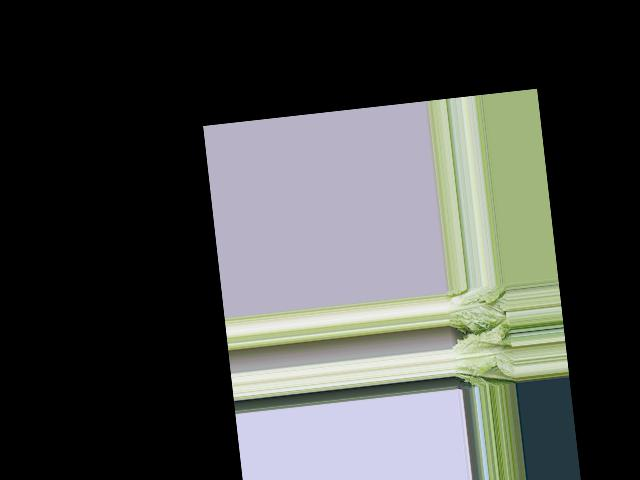lettuce: (445, 287, 506, 332)
